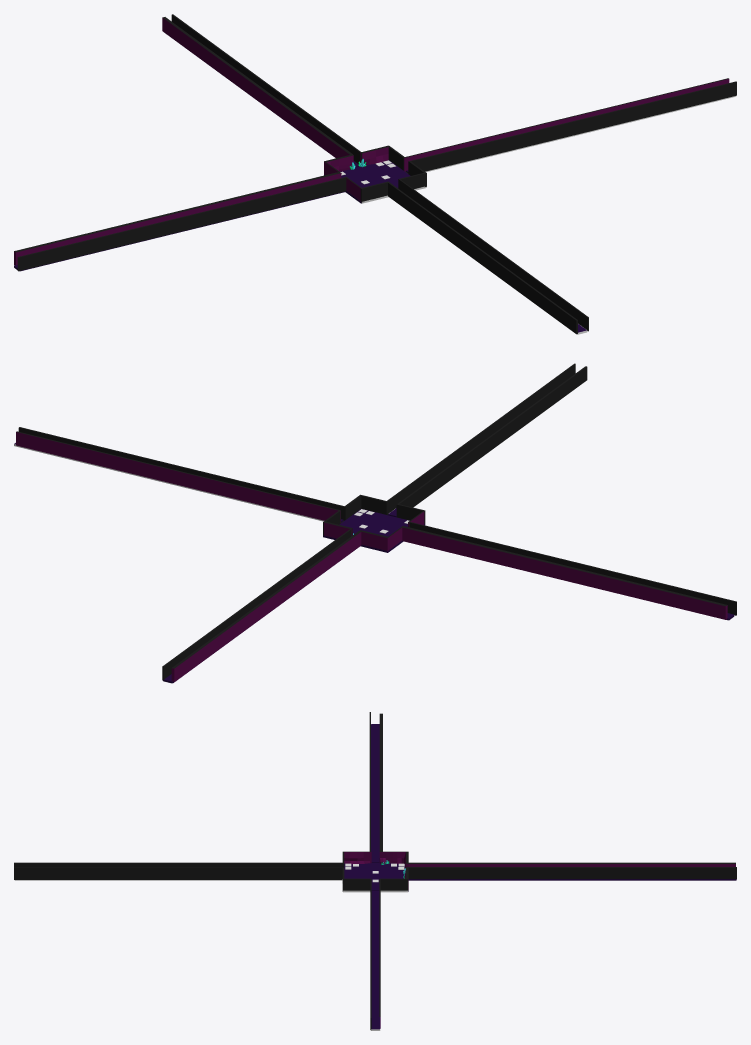
File: sala2DET.fbx
3 views of the same model, one above another, from view 1: azimuth 30°, elevation 25°; view 2: azimuth 150°, elevation 25°; view 3: azimuth 270°, elevation 25° (orthographic). The views are drawn at different scales.
Parts seen in each view (by area): view 1: paredes_der_abajo2, paredes_izq_arriba2, suelo2; view 2: paredes_izq_arriba2, paredes_der_abajo2, suelo2; view 3: paredes_der_abajo2, suelo2, paredes_izq_arriba2.
Part boxes in pixels (bbox=[...]): paredes_der_abajo2: bbox=[17, 14, 736, 333]; paredes_izq_arriba2: bbox=[14, 17, 729, 265]; suelo2: bbox=[14, 33, 736, 334]; paredes_izq_arriba2: bbox=[16, 431, 727, 682]; paredes_der_abajo2: bbox=[18, 363, 736, 680]; suelo2: bbox=[14, 442, 734, 683]; paredes_der_abajo2: bbox=[14, 712, 736, 1029]; suelo2: bbox=[15, 724, 736, 1030]; paredes_izq_arriba2: bbox=[344, 713, 735, 1028].
Bounding box in the file's own units: 73174 × 1445 × 73082.
